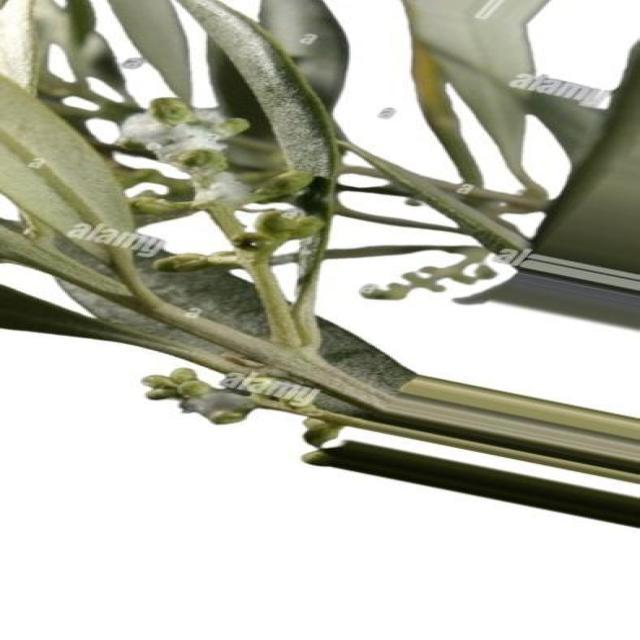Psyllid: (120, 97, 274, 207)
